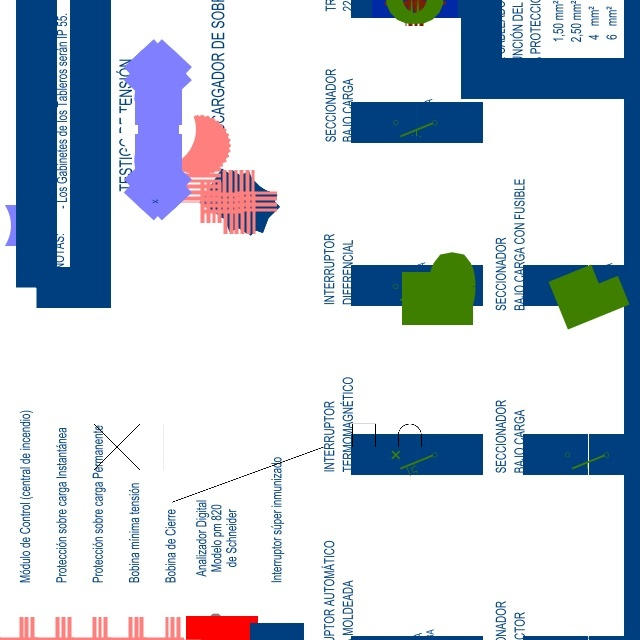interruptor_termomagnetico: (61, 414, 460, 512)
